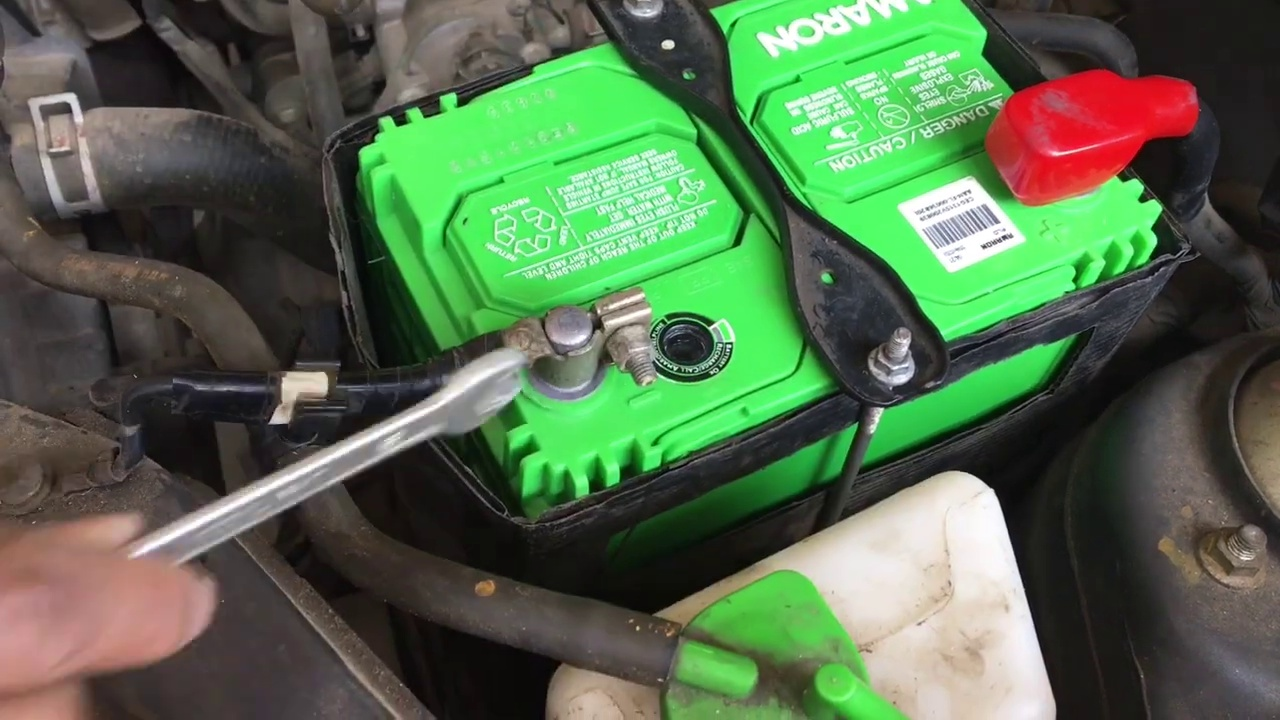battery: (372, 17, 1162, 473)
neg_connected: (456, 275, 690, 402)
pos_connected: (962, 56, 1215, 215)
